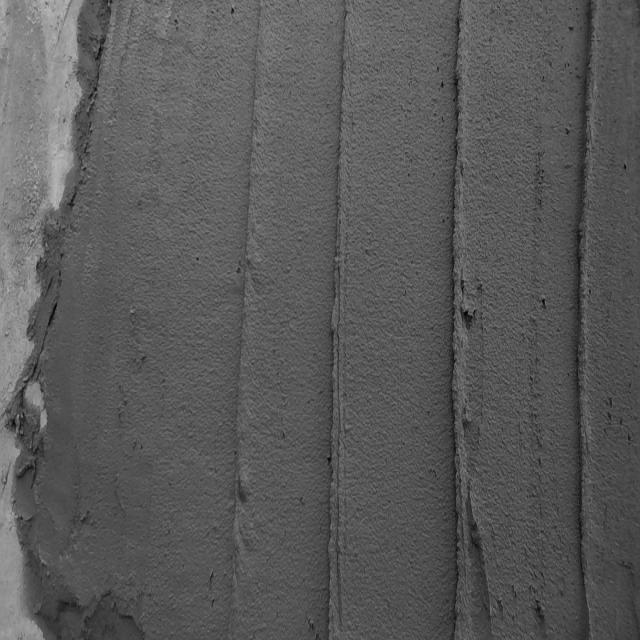trowels marks: (565, 2, 601, 630), (318, 12, 354, 629), (230, 22, 266, 604), (444, 8, 476, 628)
